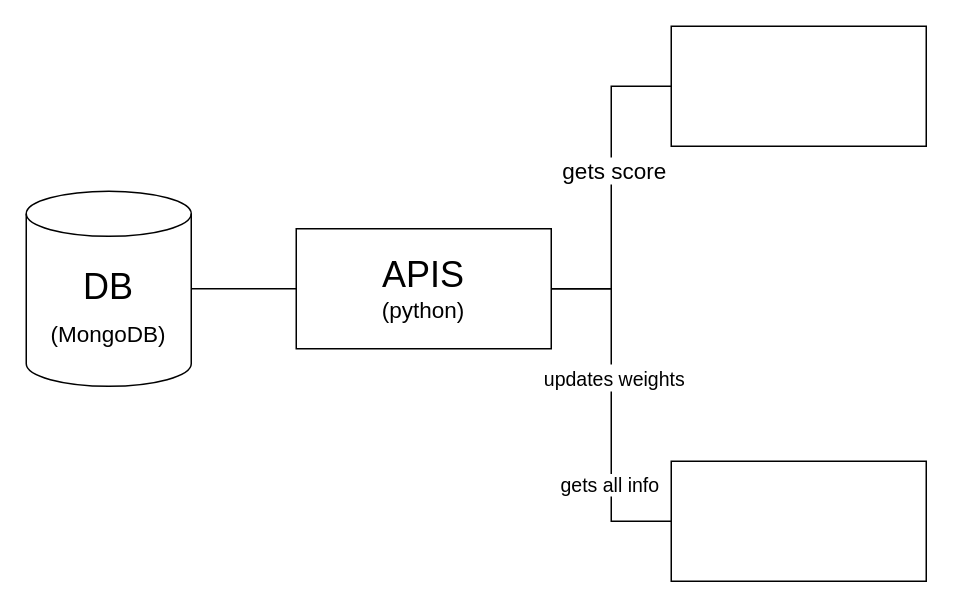
The diagram is 953 pixels wide and 608 high, and some of its shapes have lost their labels. Here are the shapes that lost their labels. From the top down, the centre of each, then its label:
At (x=798, y=85): "APP (Unity)".
At (x=798, y=520): "WEB (Vue.js)".
